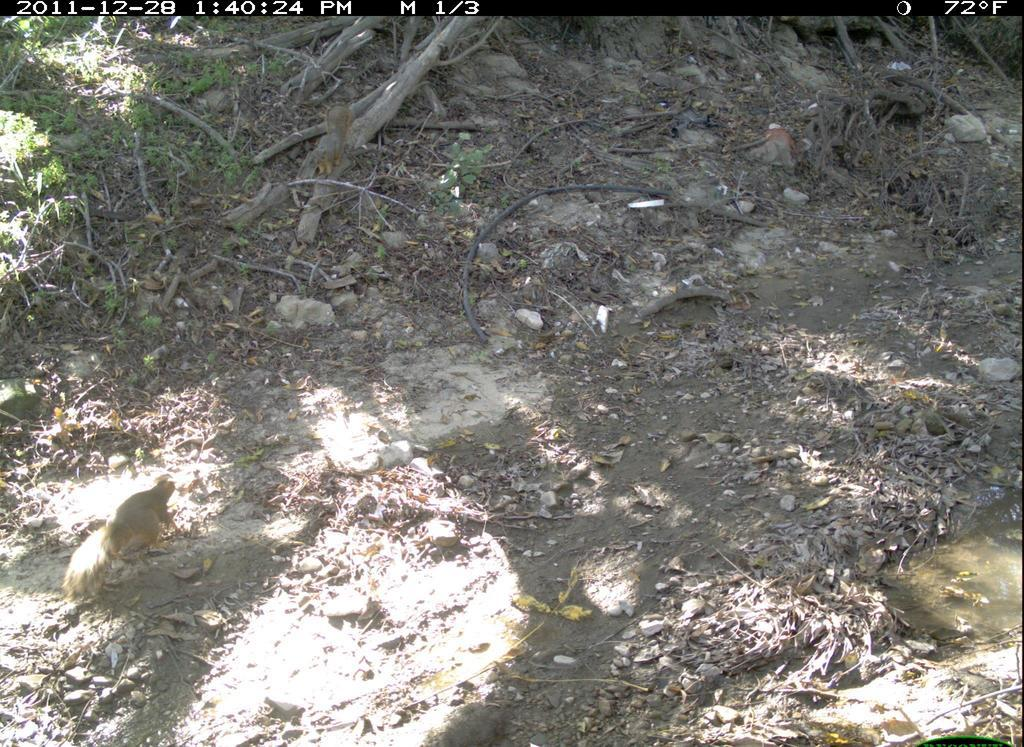squirrel: (62, 474, 184, 598), (303, 98, 358, 182)
